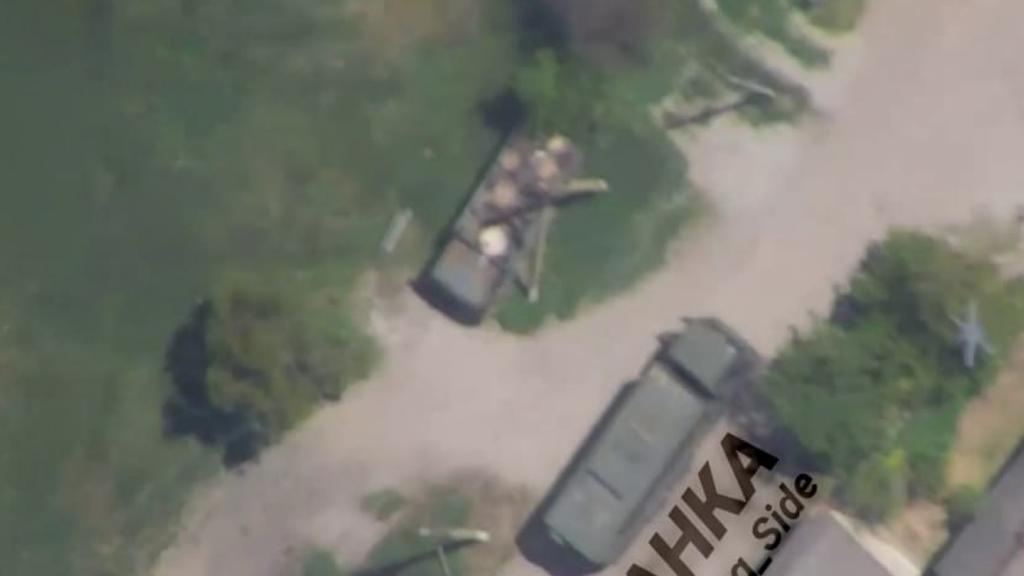TRUCK: (540, 311, 745, 569), (421, 119, 581, 327)
